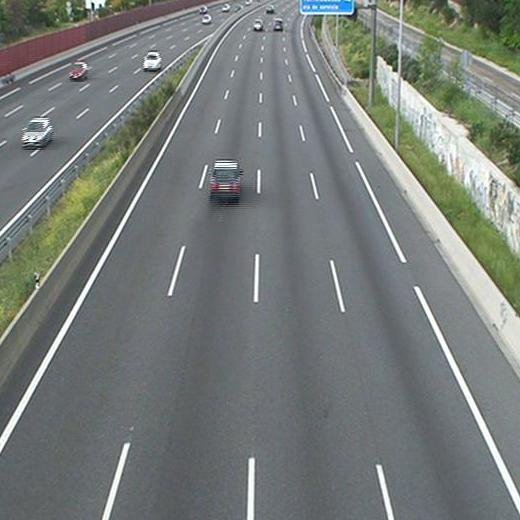car: (211, 161, 240, 198), (274, 19, 283, 30), (253, 19, 262, 30), (266, 4, 276, 13)
